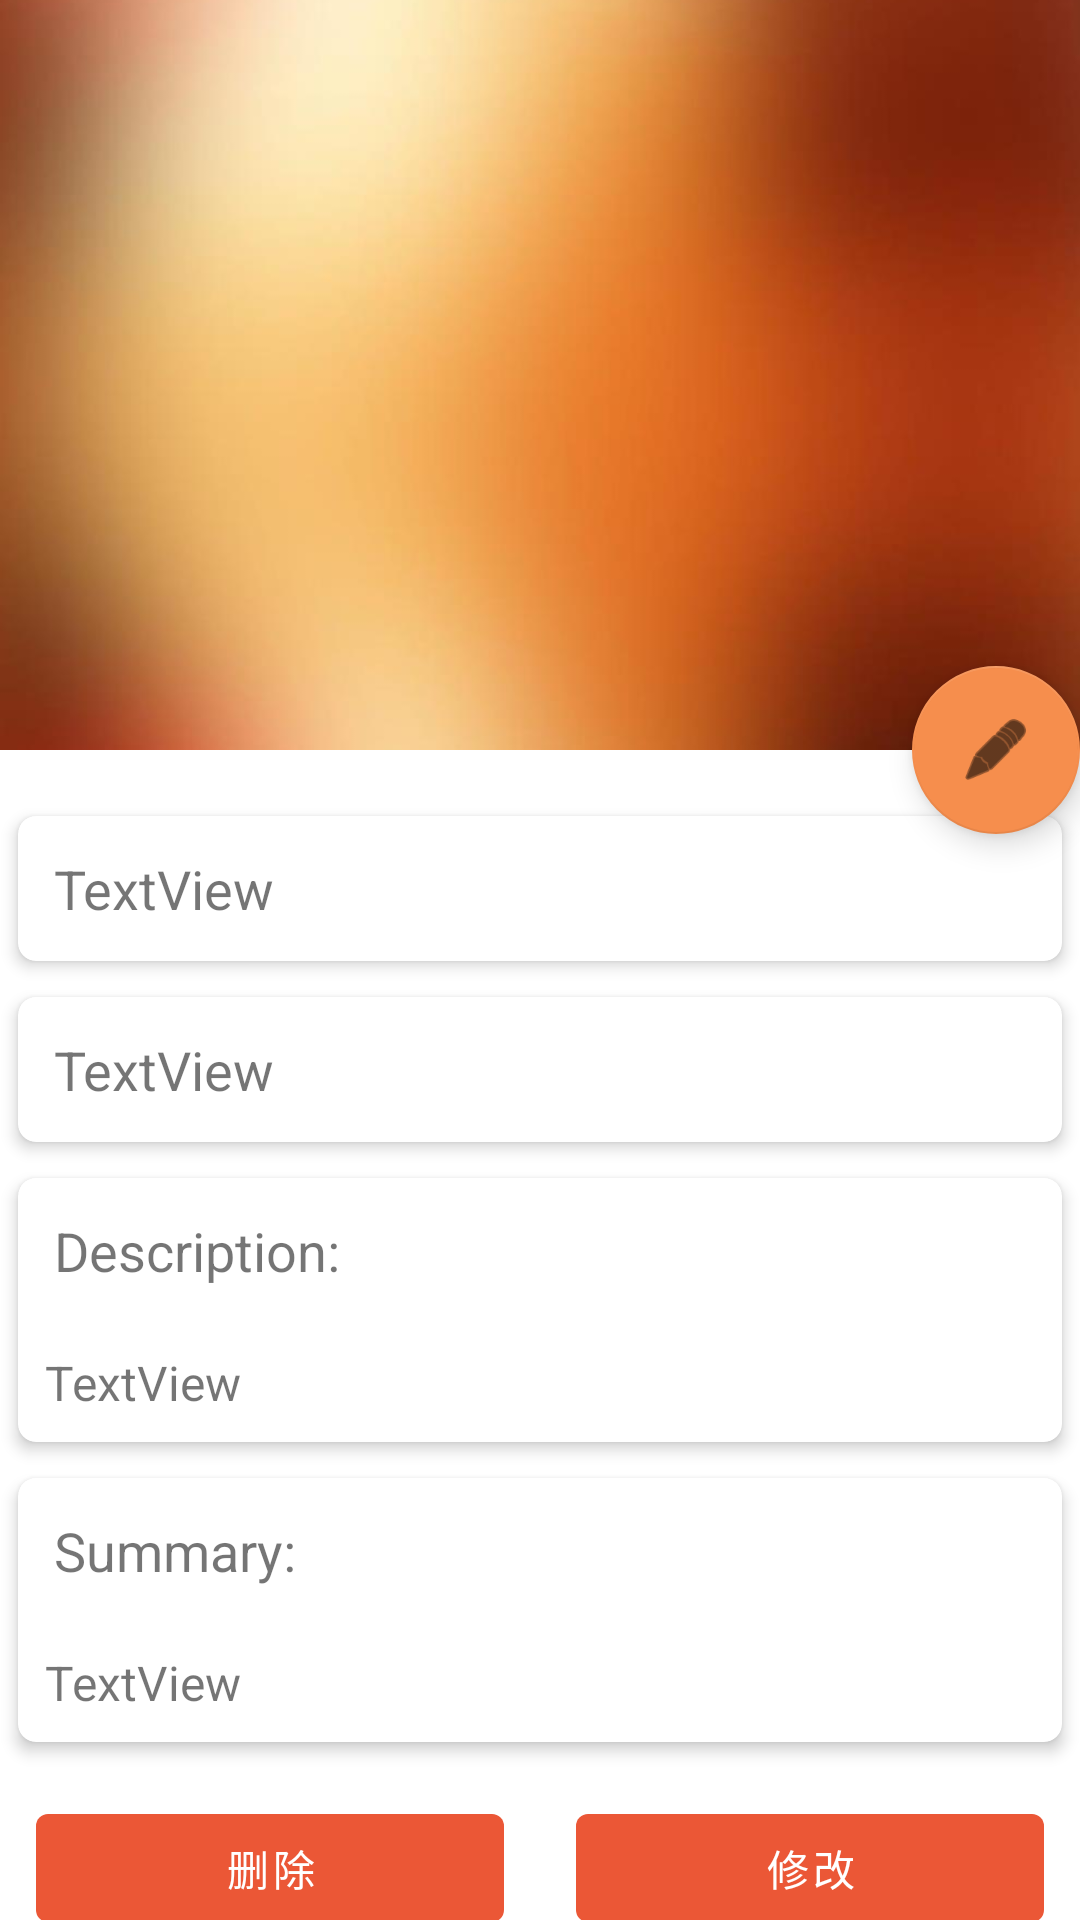

Point at icon controls on the screen. Image size 1080 x 1920, points as (x=x, y=y).
edit: (x=996, y=750)
